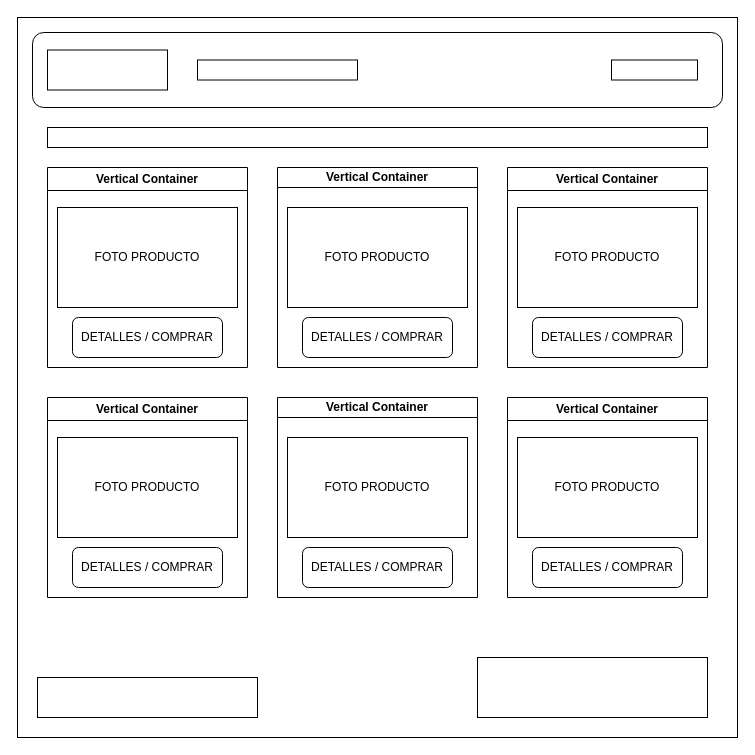
Image size: 755x755. Some labels were removed from this diagram. Each missing label, with the box of its shape:
Carrito y Lupa: (610, 59, 698, 80)
Filtros y Ordenar Por: (46, 126, 708, 148)
Formulario de Contacto / Cotizador: (476, 656, 708, 718)
LOGO: (46, 49, 168, 90)
Logo, nombre y direccion: (36, 676, 258, 718)
Sobre nosotros / Catálogo: (196, 59, 358, 80)
